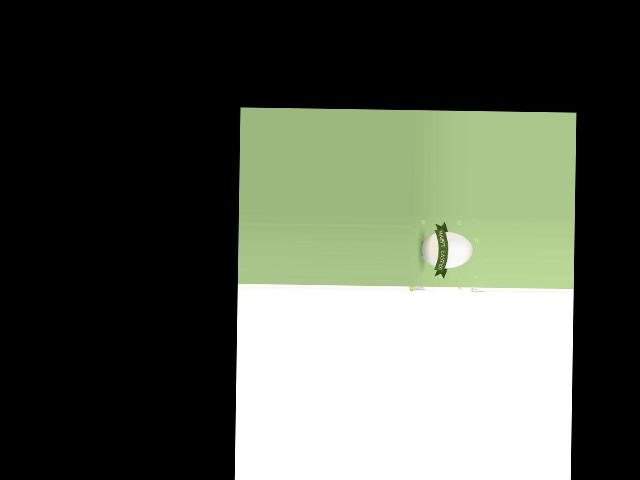egg: (421, 232, 472, 269)
